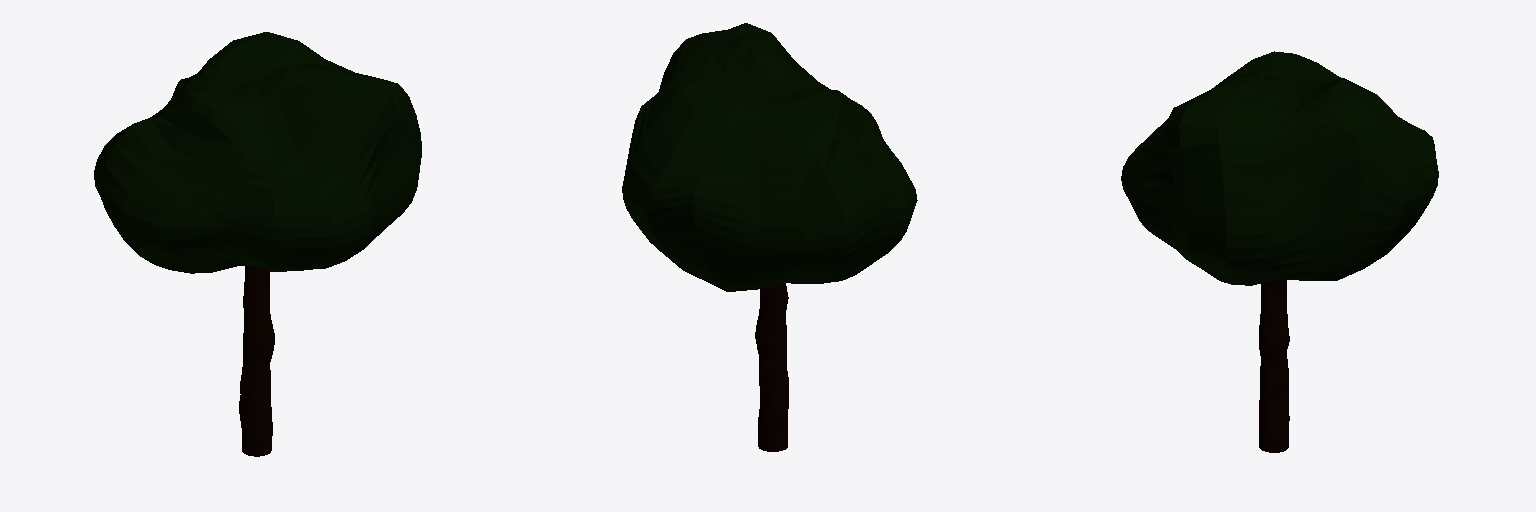
The model's file is tree.obj.
3 renders of one model, left to right at view 1: azimuth 30°, elevation 25°; view 2: azimuth 150°, elevation 25°; view 3: azimuth 270°, elevation 25°, orthographic.
Visible parts, largest first — view 1: pCylinder3; view 2: pCylinder3; view 3: pCylinder3.
Part boxes in pixels (x1,y1,x2,y2): pCylinder3: (94, 32, 421, 456); pCylinder3: (622, 23, 917, 451); pCylinder3: (1121, 51, 1438, 452).
Bounding box in the file's own units: 0.251 × 0.3303 × 0.2482.